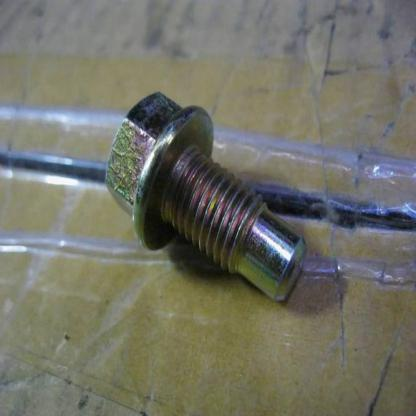FOD: (104, 88, 309, 306)
